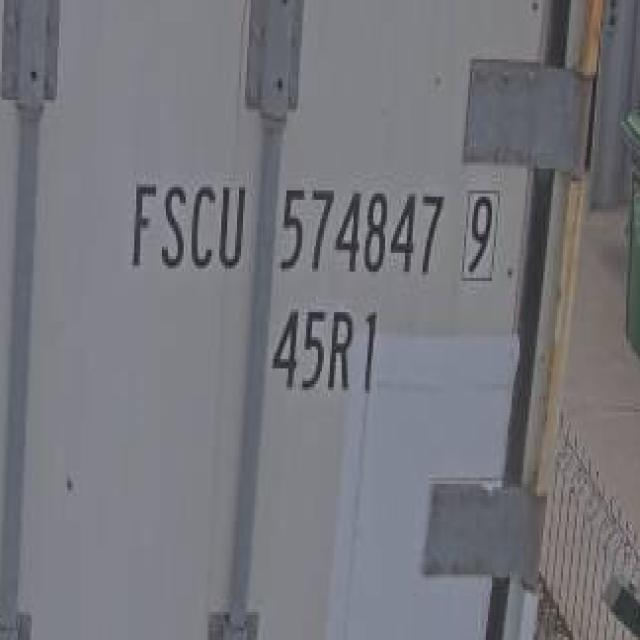dv: (455, 183, 507, 290)
owner: (127, 171, 249, 276)
serial: (273, 172, 446, 285)
size: (264, 296, 383, 396)
